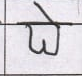e_matra: (34, 3, 57, 22)
